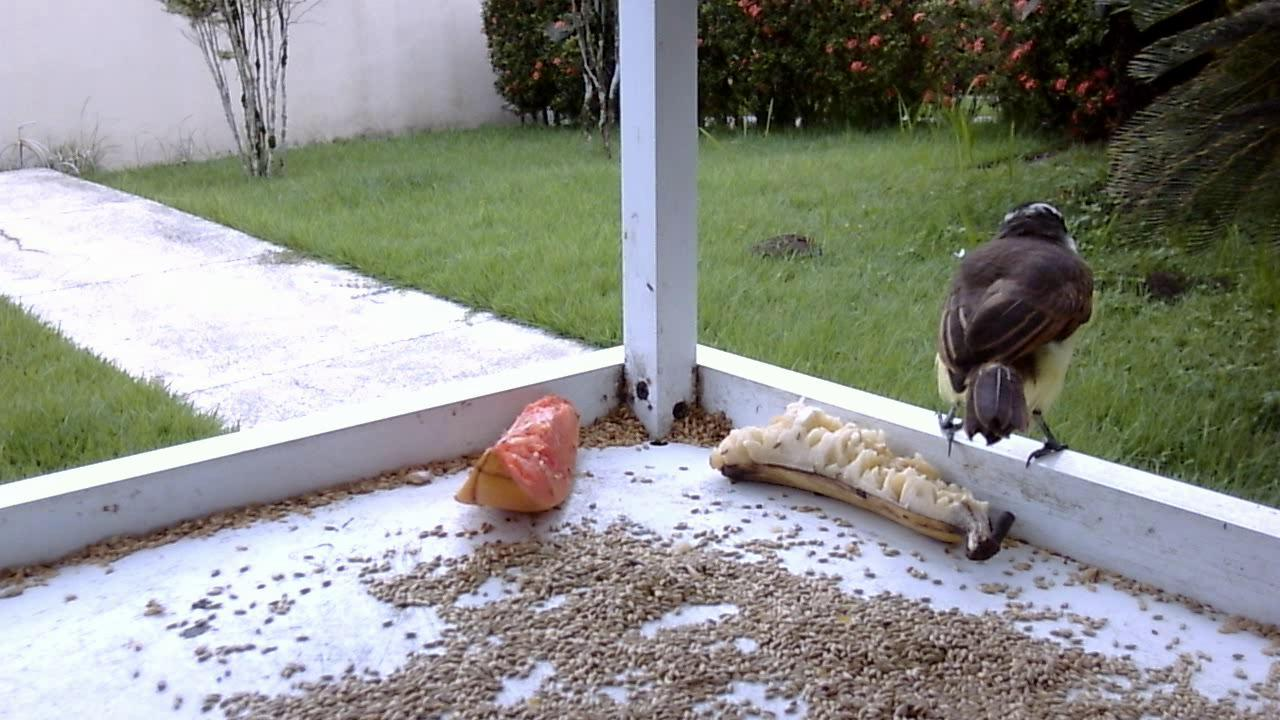bem_te_vi: (922, 192, 1104, 481)
